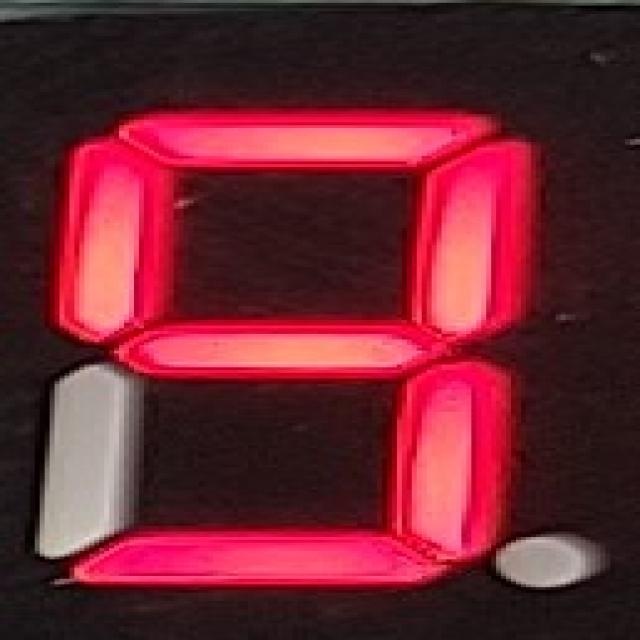.: (491, 526, 608, 593)
9: (14, 73, 544, 596)
